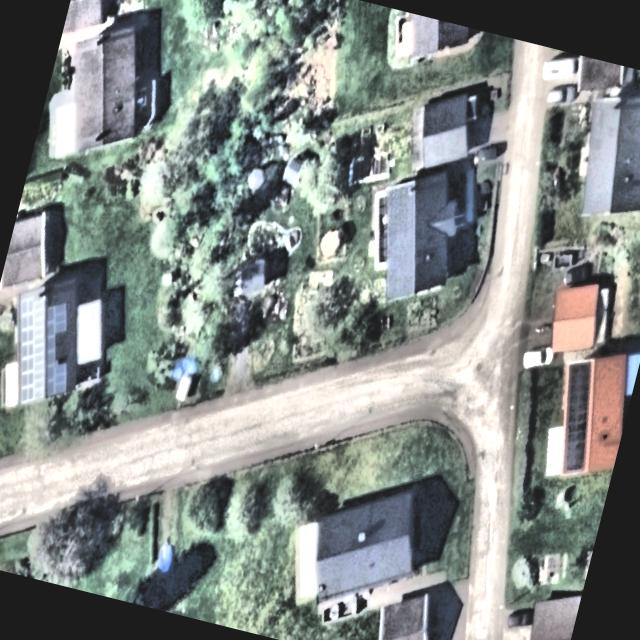roof_pv: (542, 356, 610, 484), (0, 286, 66, 406), (36, 299, 72, 362), (37, 356, 74, 406)
